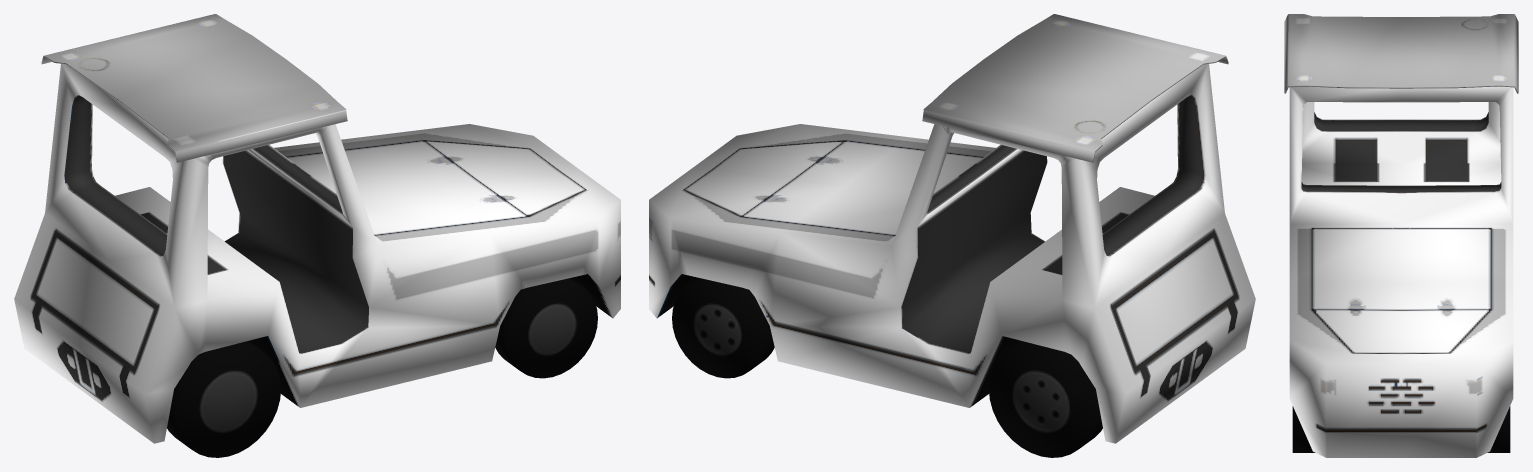
Rendered from Car_SM_Tuoche.glb.
3 views of the same model, side by side, from view 1: azimuth 30°, elevation 25°; view 2: azimuth 150°, elevation 25°; view 3: azimuth 270°, elevation 25° (orthographic). The views are drawn at different scales.
Parts seen in each view (by area): view 1: SM_Tb25nr_LowPoly; view 2: SM_Tb25nr_LowPoly; view 3: SM_Tb25nr_LowPoly.
Boxes of the visible parts, x1,y1,x2,y2 form: SM_Tb25nr_LowPoly: (14, 14, 620, 457); SM_Tb25nr_LowPoly: (649, 14, 1255, 457); SM_Tb25nr_LowPoly: (1284, 14, 1518, 457).
Size of the model in its own units: 319 by 196 by 151.
Materials: 1 (1 with a texture image).
